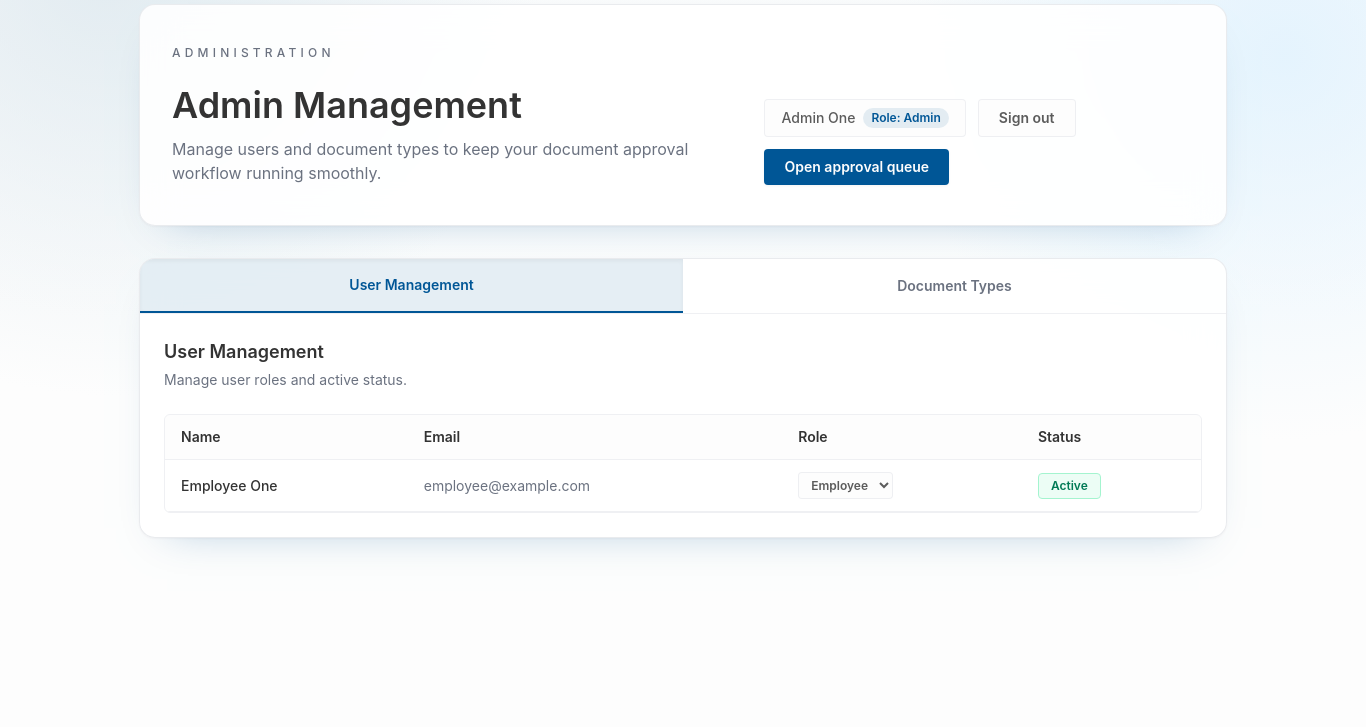
Scenario: AdminDashboard › edits and cancels document type changes
Click the button "Document Types".
click(954, 286)  # box [683,259,1226,313]
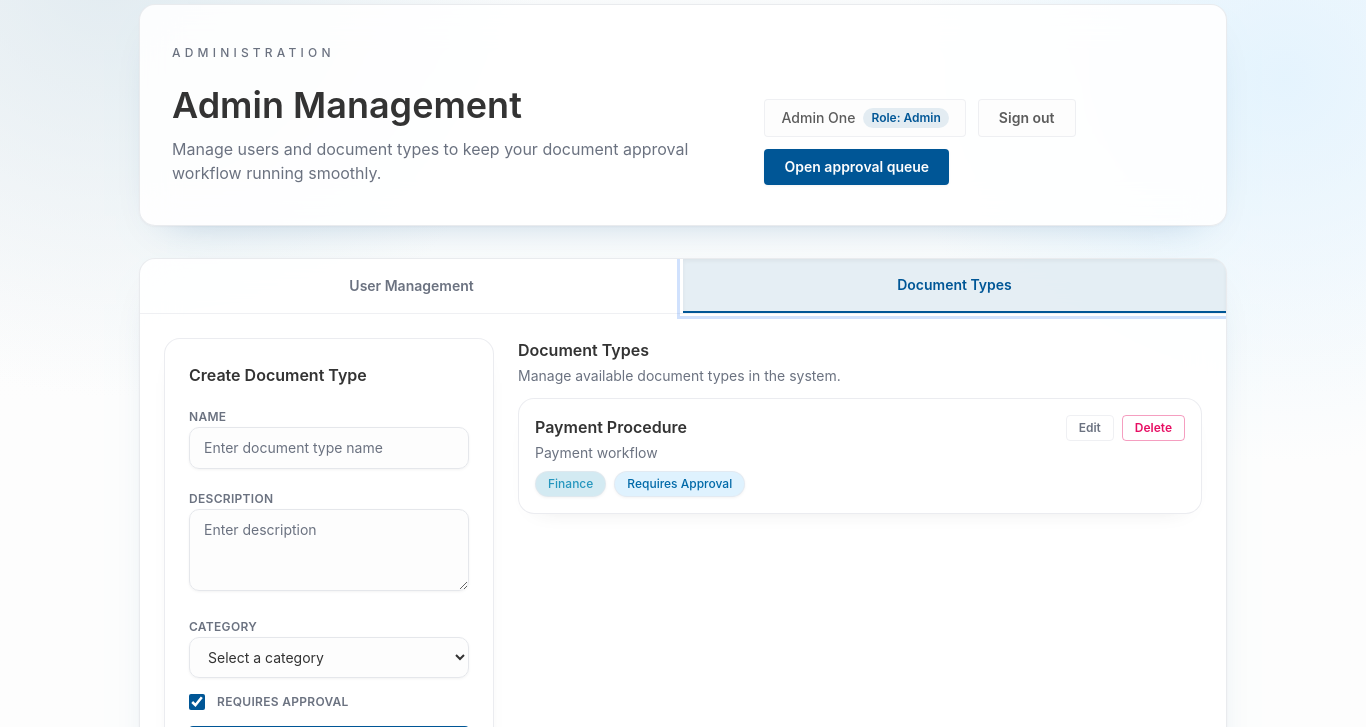
Expected: the element "Payment Procedure" is shown, [518,398,1202,514]
Click the button "Edit".
click(1090, 428)  # box [1066,415,1114,441]
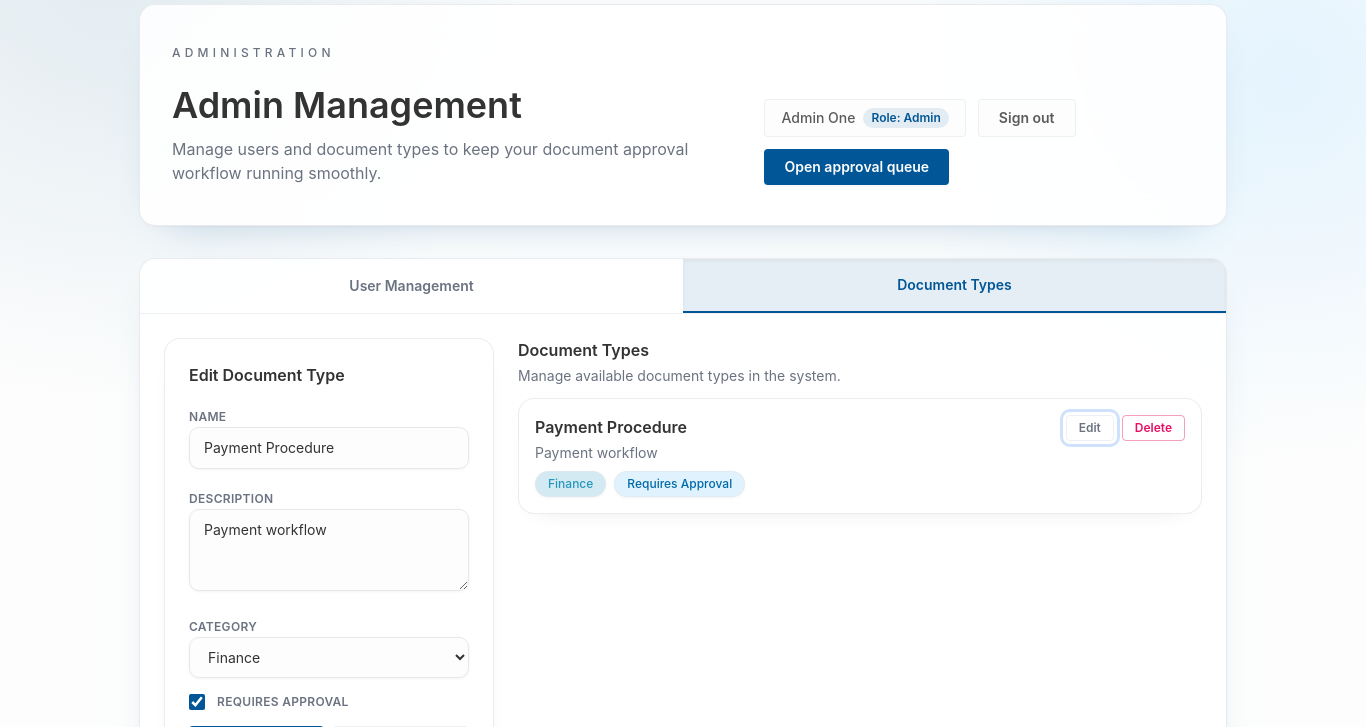
Replace the text in the field with placeholder "Enter document type name" with "Payment Procedure Updated" at (329, 448), box [189,427,469,469]
(page scrolled)
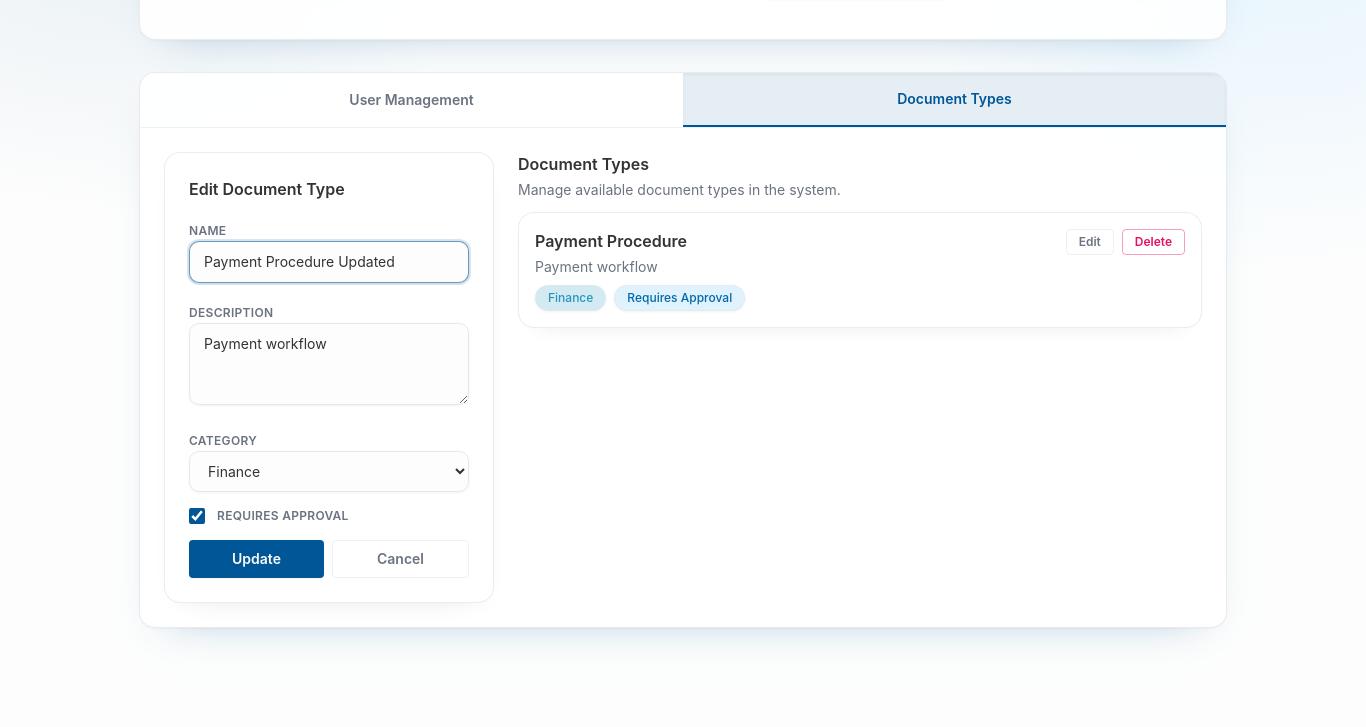
Click the button "Update".
click(256, 559)  # box [189,540,324,578]
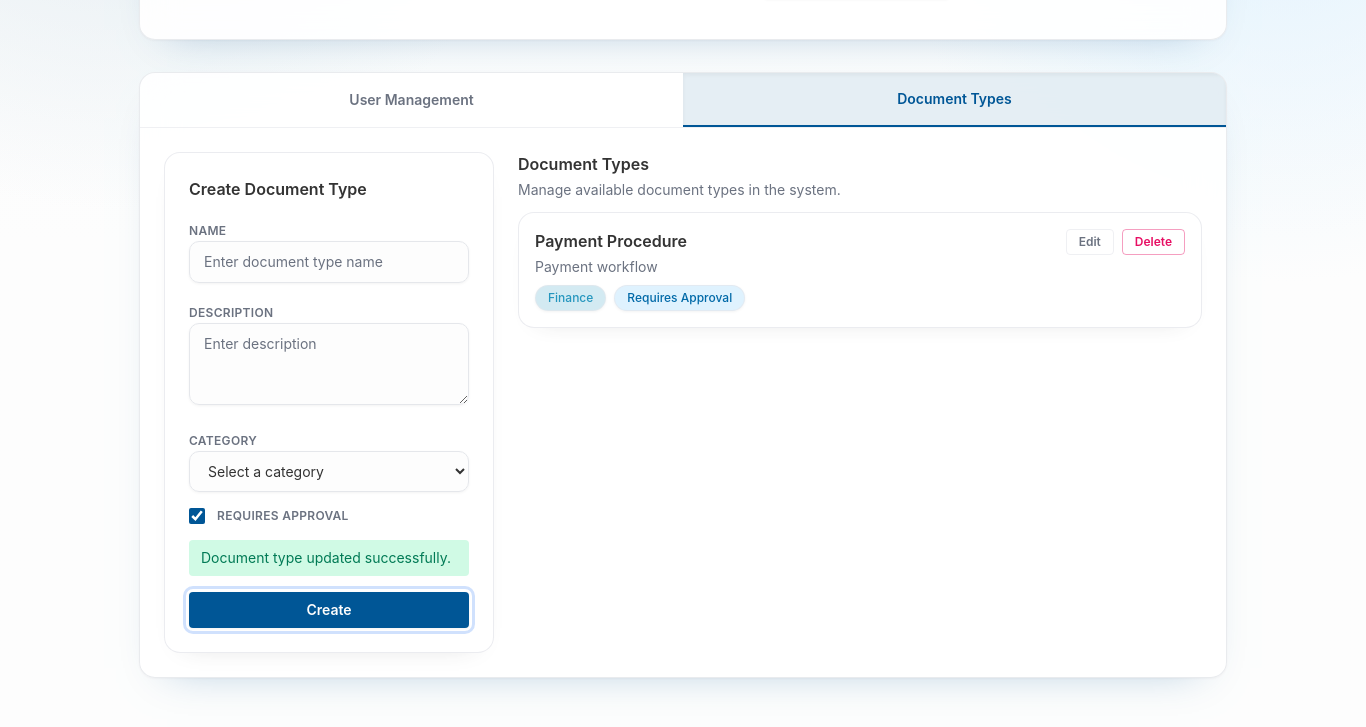
Click the button "Edit".
click(1090, 242)  # box [1066,229,1114,255]
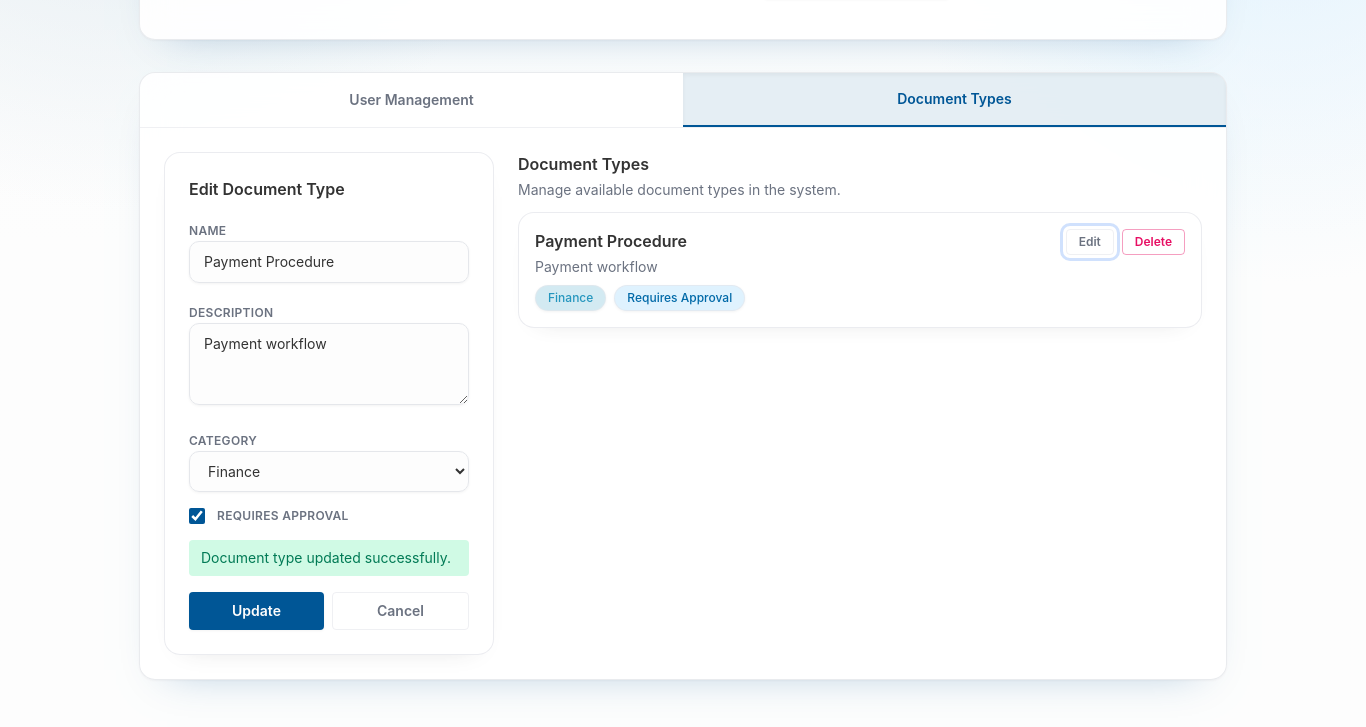
Click the button "Cancel".
click(400, 611)  # box [332,592,469,630]
(page scrolled)
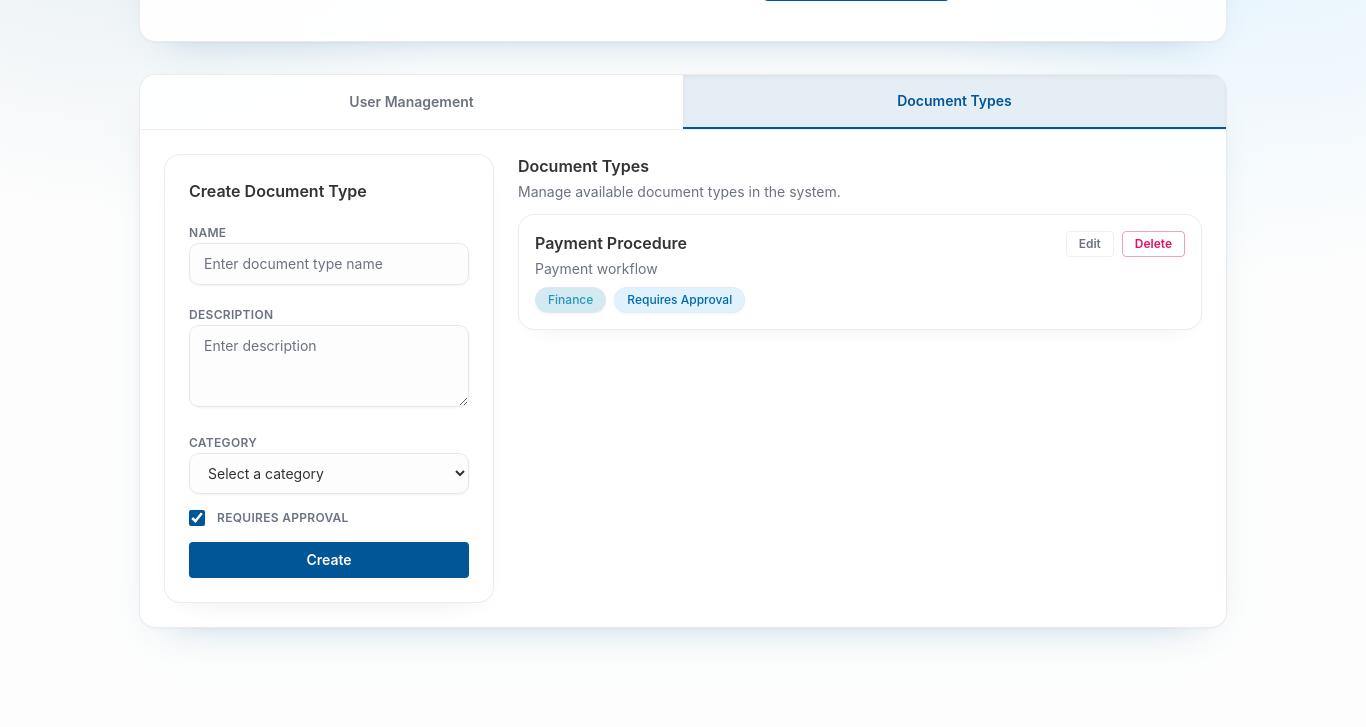
Expected: the heading "Create Document Type" is shown, [189,181,367,201]
